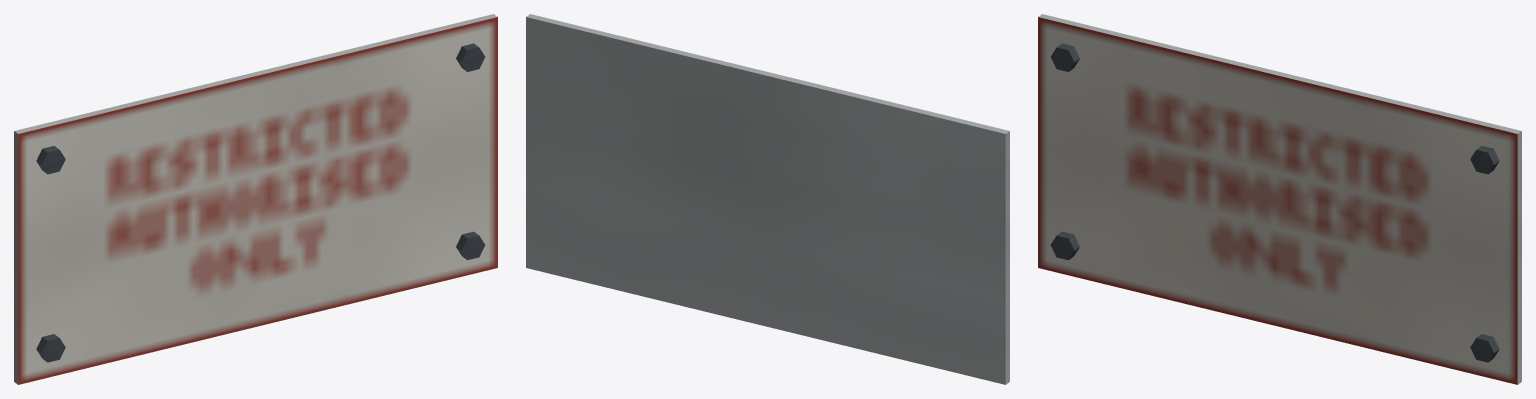
The model's file is sign_bunker_restricted.fbx.
The picture shows the model from 3 angles, left to right: view 1: azimuth 30°, elevation 25°; view 2: azimuth 150°, elevation 25°; view 3: azimuth 330°, elevation 25°; orthographic projection.
Parts seen in each view (by area): view 1: sign_bunker_restricted; view 2: sign_bunker_restricted; view 3: sign_bunker_restricted.
Part boxes in pixels (bbox=[...]): sign_bunker_restricted: bbox=[14, 14, 497, 384]; sign_bunker_restricted: bbox=[526, 14, 1009, 384]; sign_bunker_restricted: bbox=[1038, 14, 1521, 384].
Size of the model in its own units: 0.4 by 0.2 by 0.014.
1 material, 1 textured.
